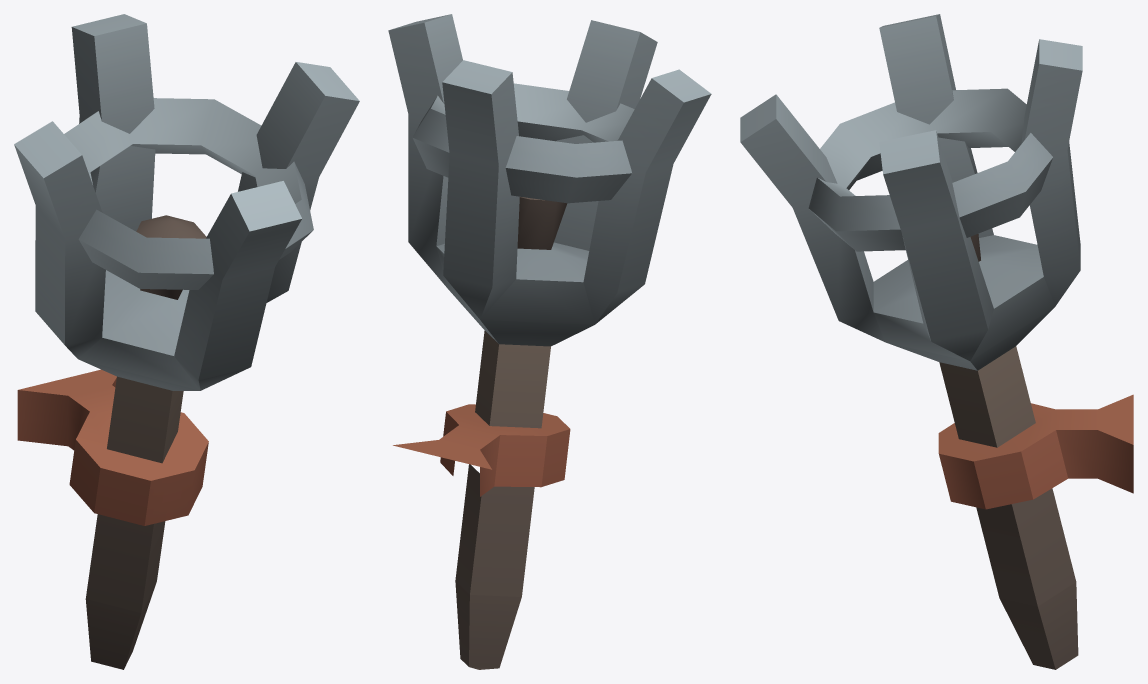
The model's file is torch_mounted.glb.
The picture shows the model from 3 angles, left to right: view 1: azimuth 30°, elevation 25°; view 2: azimuth 150°, elevation 25°; view 3: azimuth 270°, elevation 25°; orthographic projection. The views are drawn at different scales.
Parts seen in each view (by area): view 1: torch_mounted; view 2: torch_mounted; view 3: torch_mounted.
Part boxes in pixels (x1,y1,x2,y2): torch_mounted: (14, 14, 359, 669); torch_mounted: (388, 14, 711, 669); torch_mounted: (740, 14, 1133, 669).
Bounding box in the file's own units: 0.5503 × 1.06 × 0.6159.
Materials: 1 (1 with a texture image).
